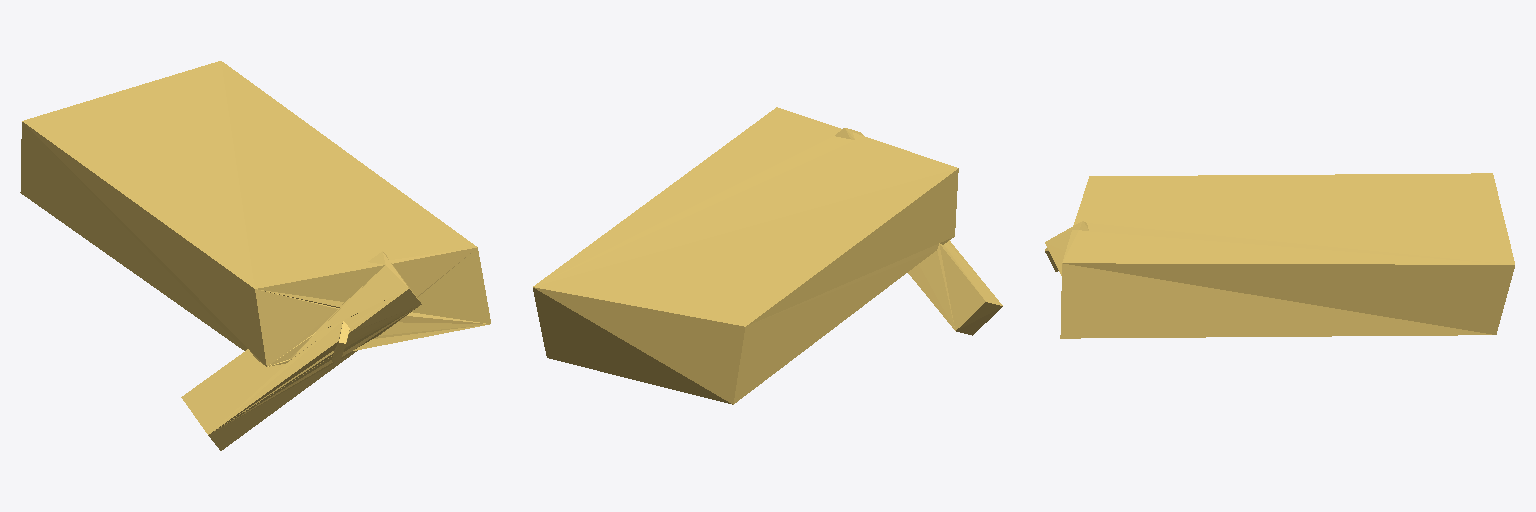
URDF robot description (blob003):

<robot name="blob003">
  <link name="random_obj_003">
    <contact>
      <lateral_friction value="1.0"/>
      <rolling_friction value="0.0"/>
      <inertia_scaling value="3.0"/>
      <contact_cfm value="0.0"/>
      <contact_erp value="1.0"/>
    </contact>
    <inertial>
      <origin rpy="0 0 0" xyz="0 0 0"/>
      <mass value="0.0593"/>
      <inertia ixx="1" ixy="0" ixz="0" iyy="1" iyz="0" izz="0"/>
    </inertial>
    <visual>
      <origin rpy="0 0 0" xyz="0 0 0"/>
      <geometry>
        <mesh filename="003.stl" scale="0.0064 0.0064 0.0064"/>
      </geometry>
      <material name="blockmat">
        <color rgba="0.96 0.84 0.49 1"/>
      </material>
    </visual>
    <collision>
      <origin rpy="0 0 0" xyz="0 0 0"/>
      <geometry>
        <mesh filename="003_coll.stl" scale="0.0064 0.0064 0.0064"/>
      </geometry>
    </collision>
  </link>
</robot>

--- Facts derived from the render (not from the file) ---
The picture shows the robot from 3 angles, left to right: view 1: azimuth 30°, elevation 25°; view 2: azimuth 150°, elevation 25°; view 3: azimuth 270°, elevation 25°; orthographic projection.
Model blob003 with 1 links and 0 joints (none), rooted at random_obj_003, posed all joints at 0.
Visible links, largest first — view 1: random_obj_003; view 2: random_obj_003; view 3: random_obj_003.
Link boxes in pixels (bbox=[...]): random_obj_003: bbox=[20, 61, 490, 450]; random_obj_003: bbox=[533, 107, 1002, 404]; random_obj_003: bbox=[1045, 173, 1514, 338].
Size in the robot's own frame: 0.0484 by 0.0826 by 0.0296 metres.
Meshes: 1 distinct files referenced, 1 mesh visuals loaded (1 binary STL).